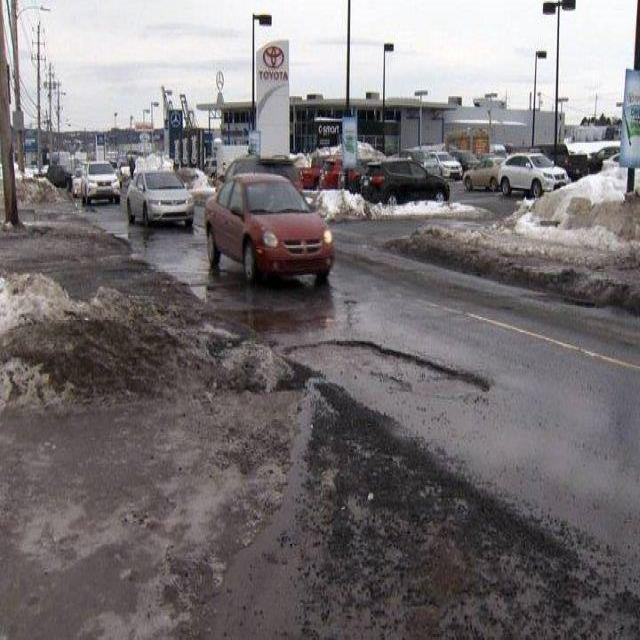lubang: (249, 341, 497, 397)
